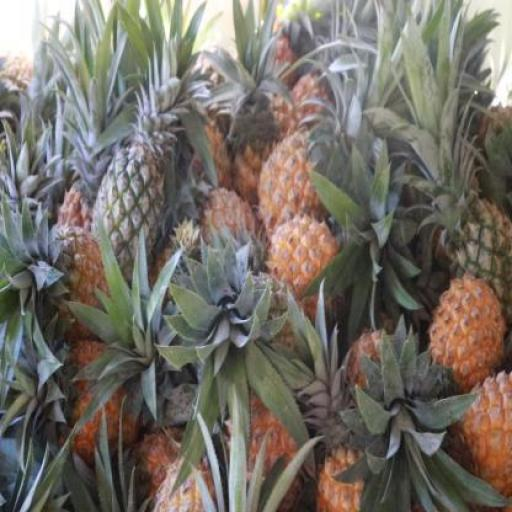Pineapple - v8 v1: (428, 282, 504, 396), (258, 142, 328, 244), (269, 214, 341, 303)
